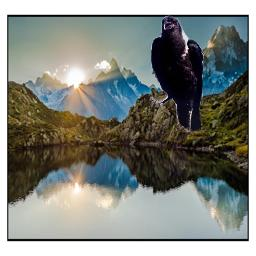Crow: (150, 15, 204, 135)
